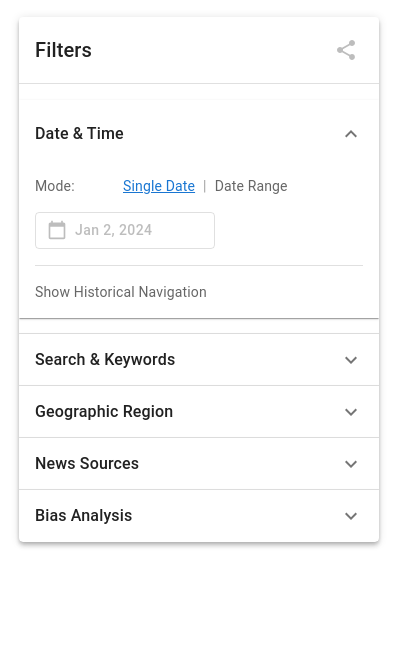
Test case: FilterPanel Integration › disables controls when loading
This screenshot has width=399, height=661.
Note: Expand search section
Click the button "Search & Keywords".
click(105, 359)  # box top-left (35, 348), bottom-right (363, 372)
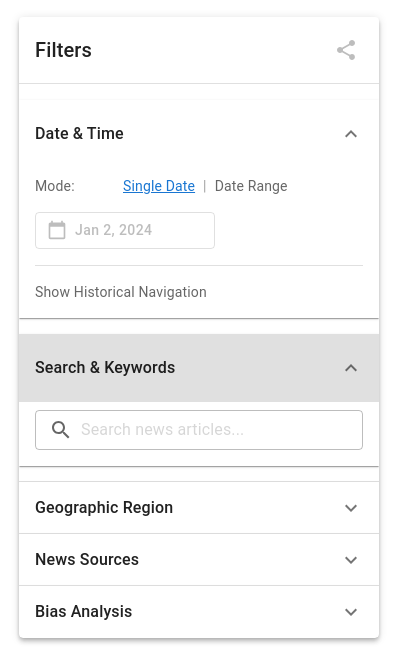
Expected: the field with placeholder "Search news articles..." is disabled, top-left (81, 410), bottom-right (363, 450)
